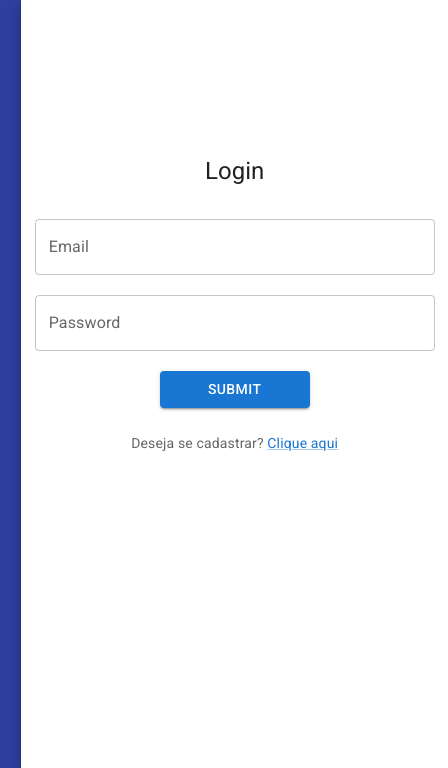
Test: LoginPage › deve validar o campo de email
Step 1. Type "email-invalido" into the field labelled "Email" → (235, 247), box [35,219,435,275]
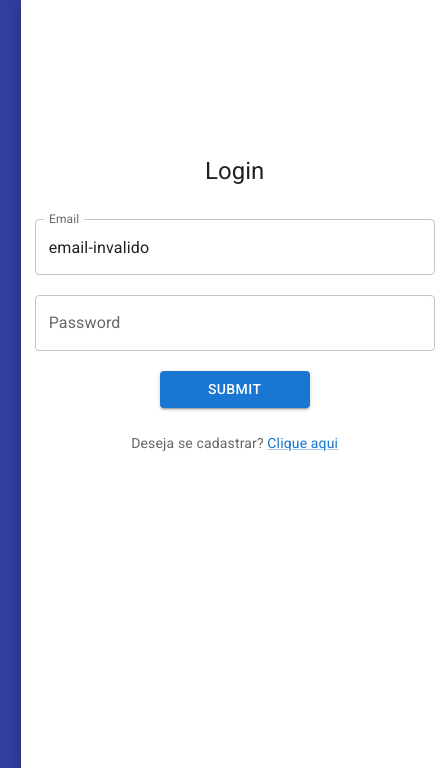
Step 2. Click the button "Submit" → (235, 390), box [160,371,310,408]
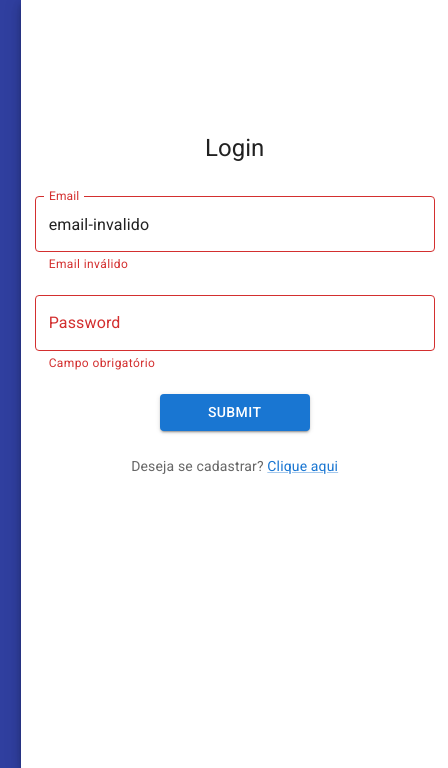
Now the text "Email inválido" is shown, box [49,257,128,271]
